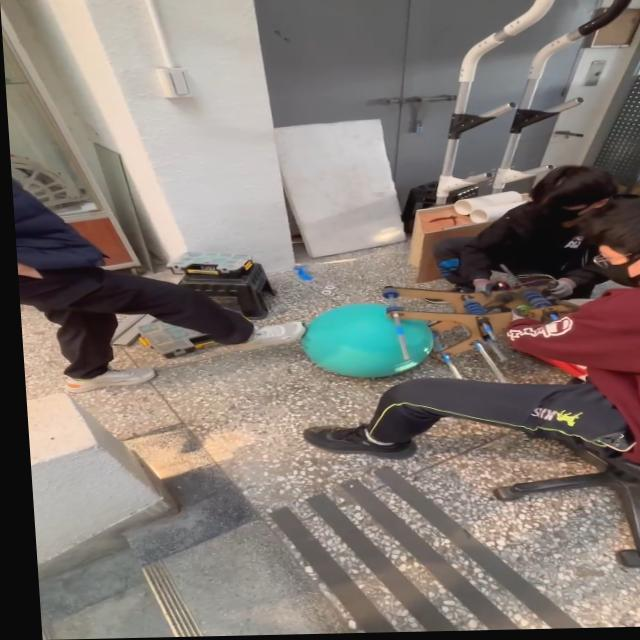ALGAE: (296, 301, 438, 380)
